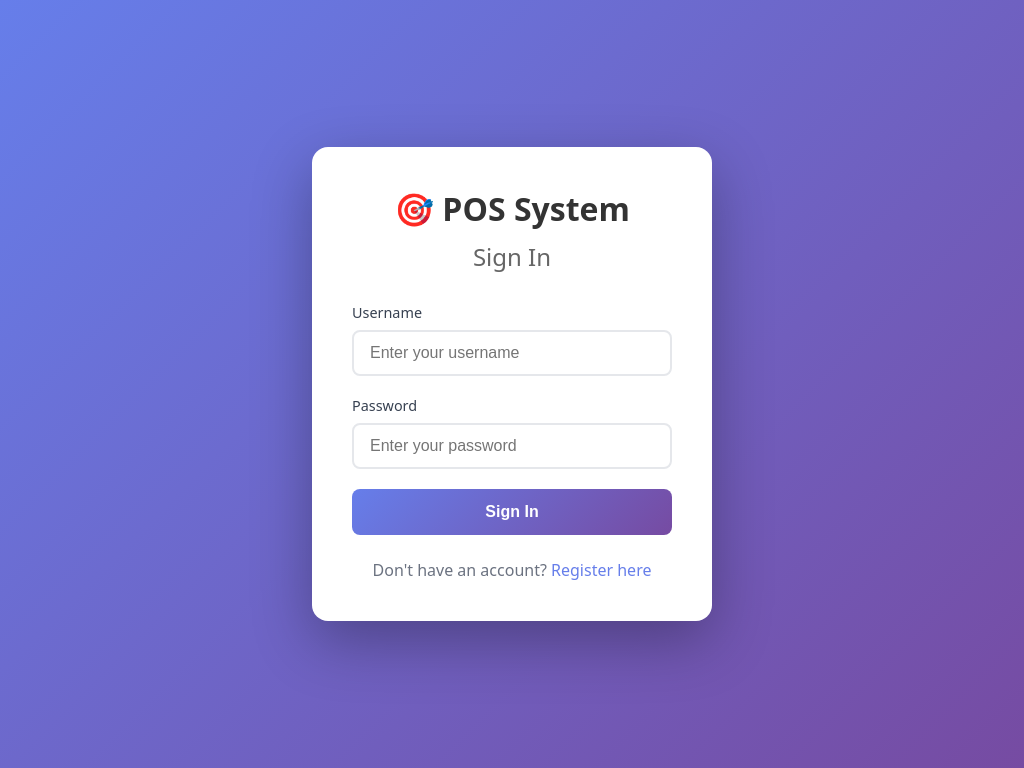
it: Login Component › shows error message on login failure
In the field with placeholder "Enter your username": point(512, 353) 352,330 -> 672,376, type "wronguser"
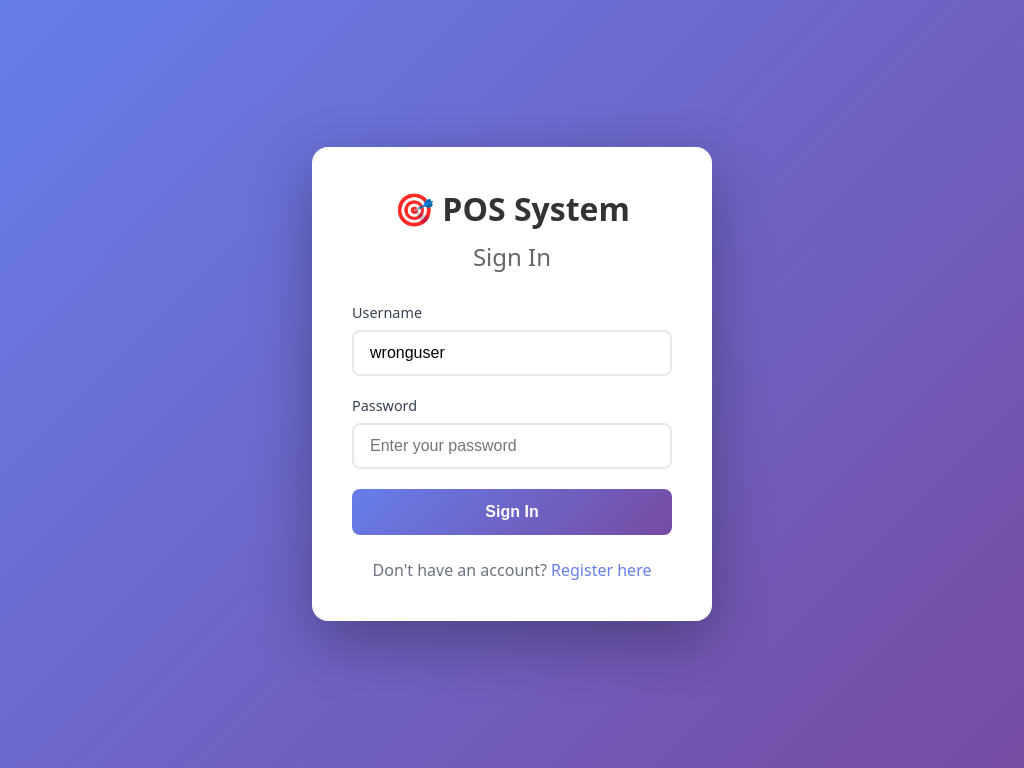
In the password field with placeholder "Enter your password": point(512, 446) 352,423 -> 672,469, type "wrongpass"
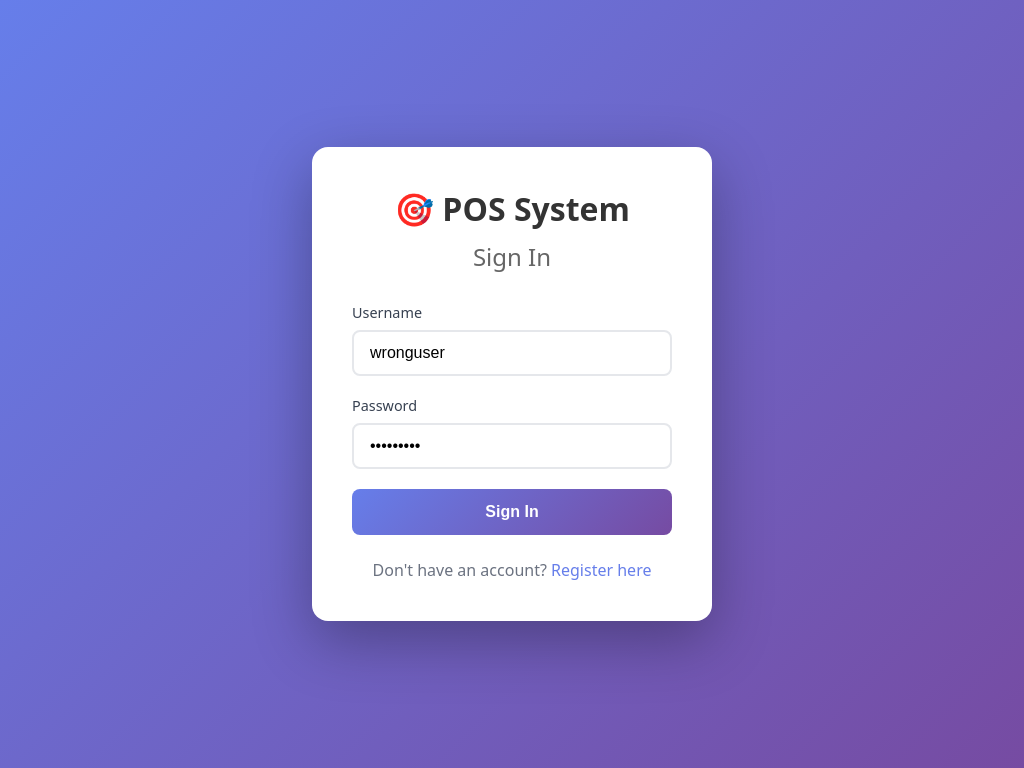
Click the button "Sign In": point(512, 512) 352,489 -> 672,535
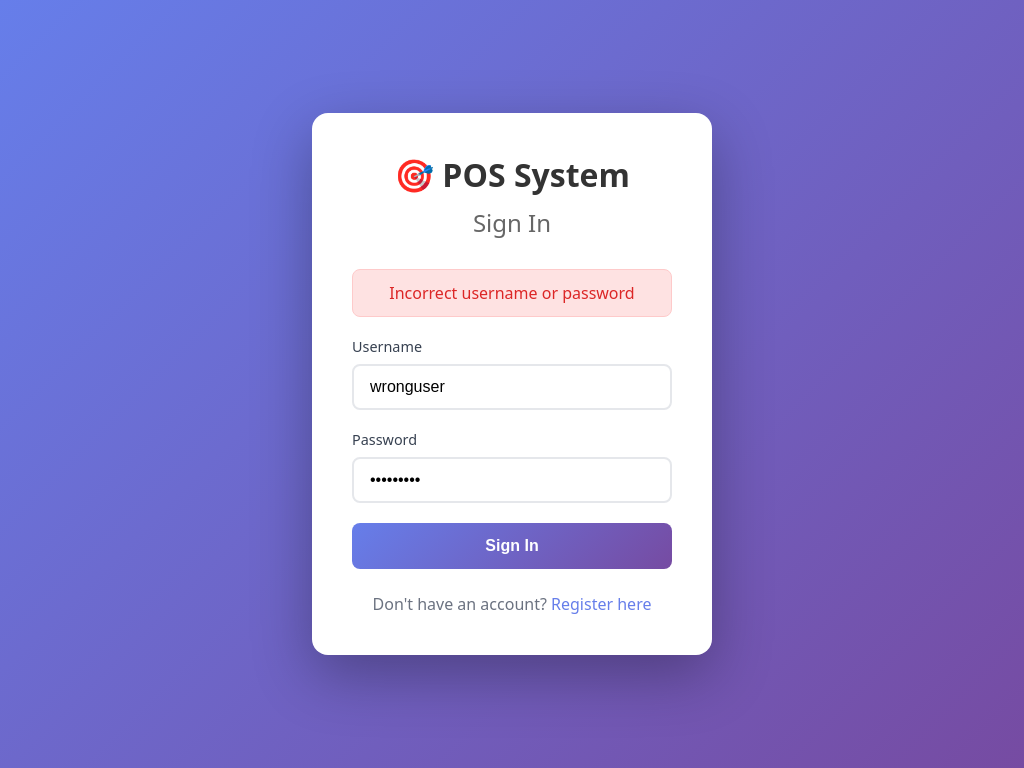
Expected: the text "Incorrect username or password" is shown, 352,269 -> 672,317
